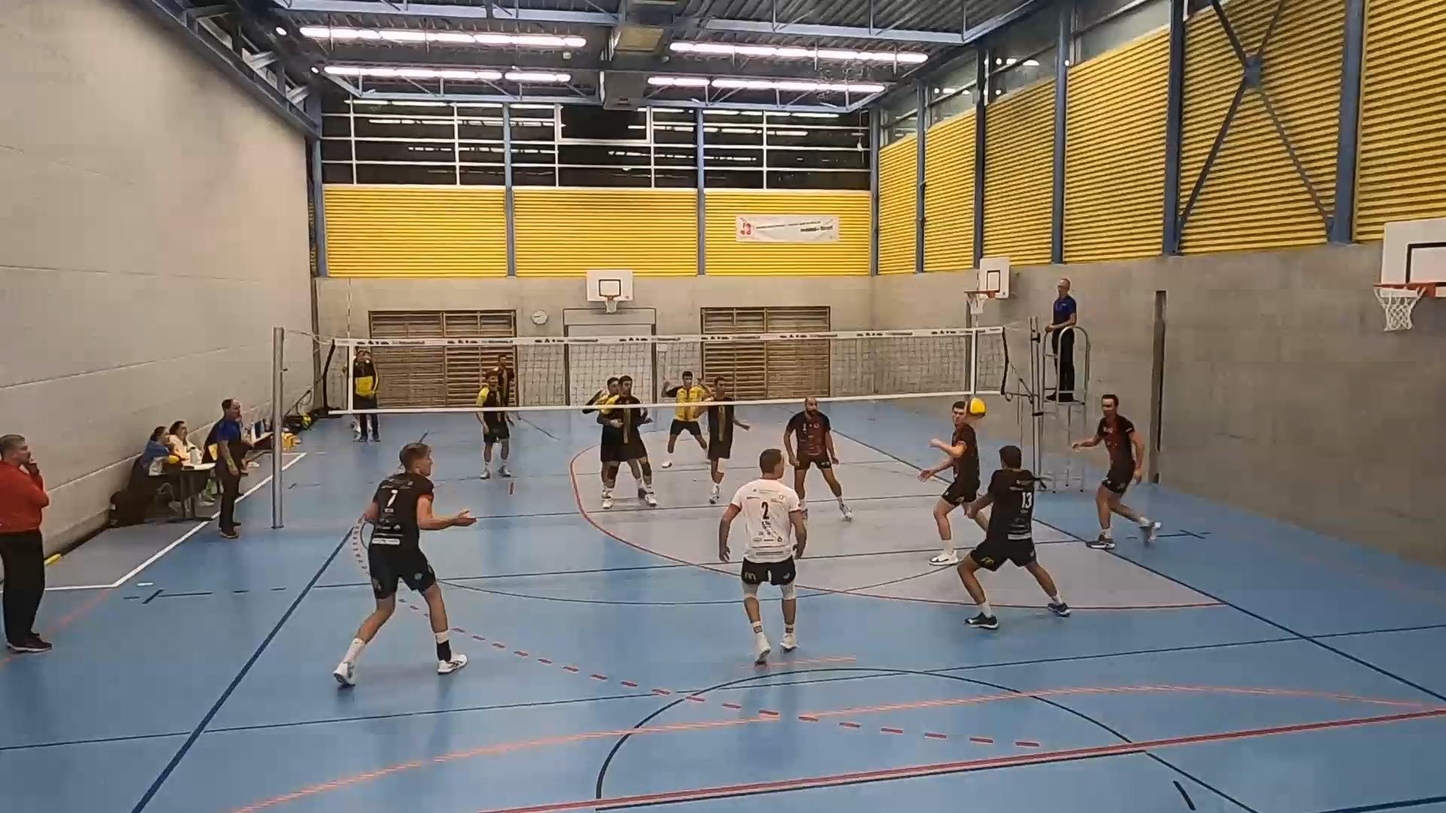Player: (334, 443, 475, 686), (718, 449, 806, 663), (1072, 394, 1160, 549), (919, 397, 986, 566), (579, 371, 648, 508), (783, 397, 852, 520), (599, 375, 656, 509), (706, 376, 750, 504), (661, 371, 707, 468), (476, 370, 511, 479), (492, 354, 515, 404)
Receive: (962, 446, 1071, 634)
ball: (963, 399, 988, 417)
